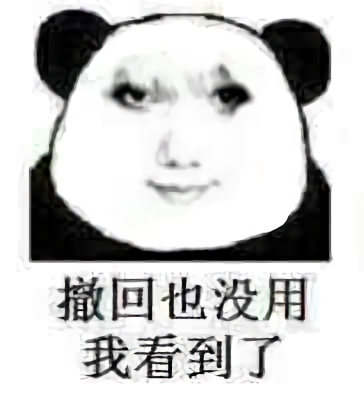dragon: (104, 71, 255, 207)
